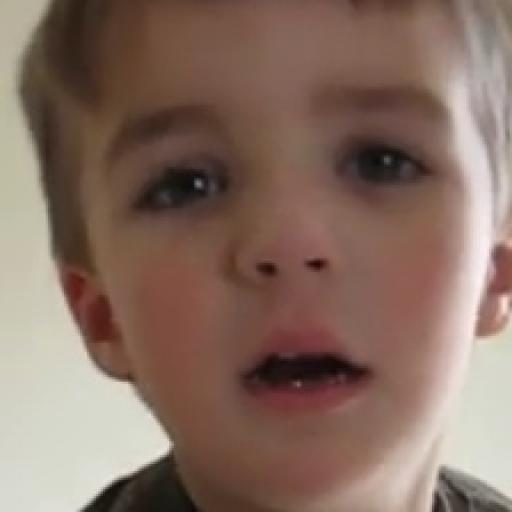Autism: (74, 1, 512, 512)
